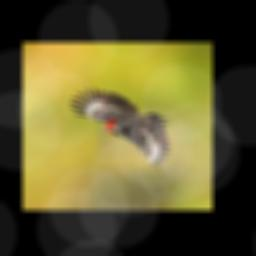Woodpecker: (68, 87, 171, 168)
